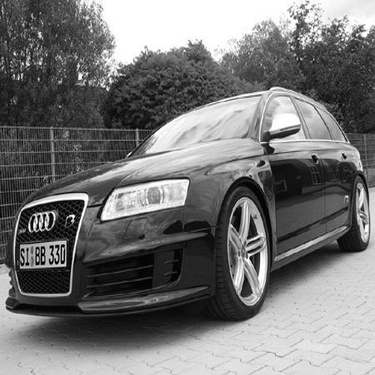car: (1, 81, 372, 322)
